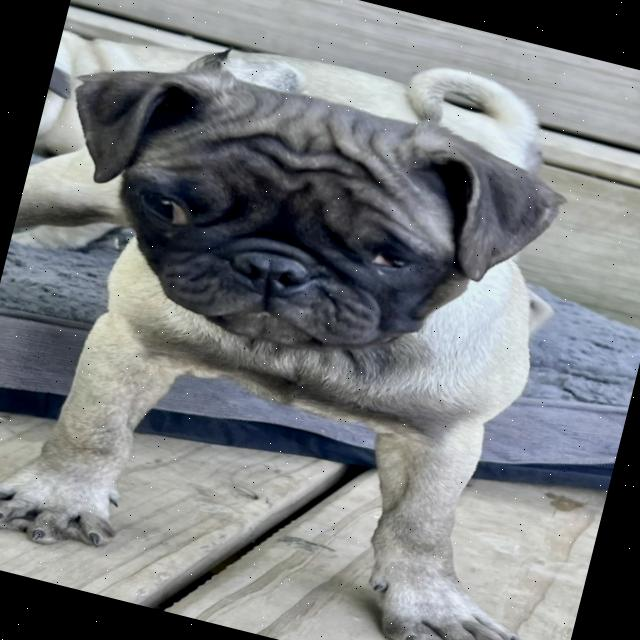pug_dog: (28, 32, 588, 414)
